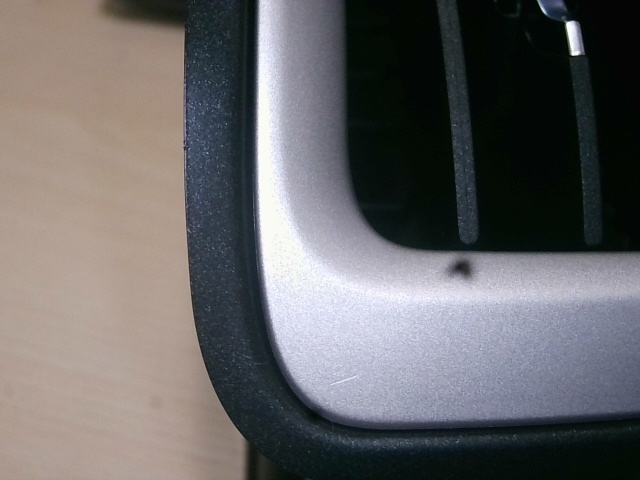NG: (327, 364, 370, 393)
